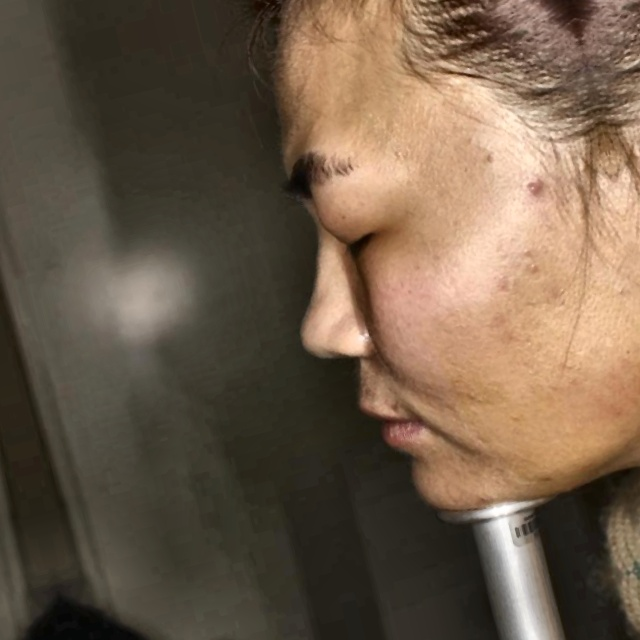comedone: (526, 169, 557, 207)
